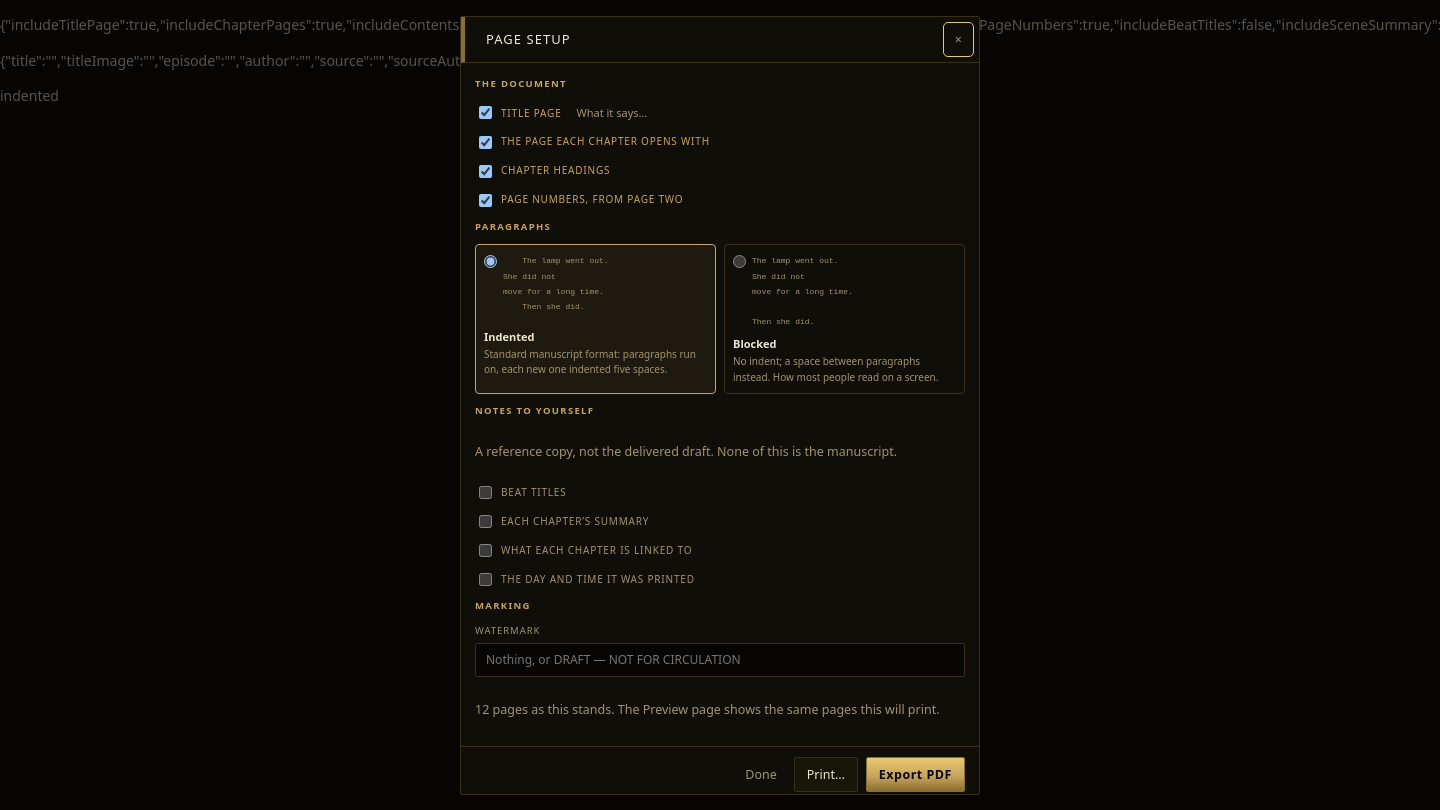
Test case: page setup › offers the two paragraph styles to a book, and to nothing else
Expected: the text with test id "paragraph-style" reads "indented", [0,86,59,105]
Expected: the radio button labelled "Indented" is checked, [484,255,497,268]
Click the radio button labelled "Blocked" at coordinates (740, 262), box [733,255,746,268]
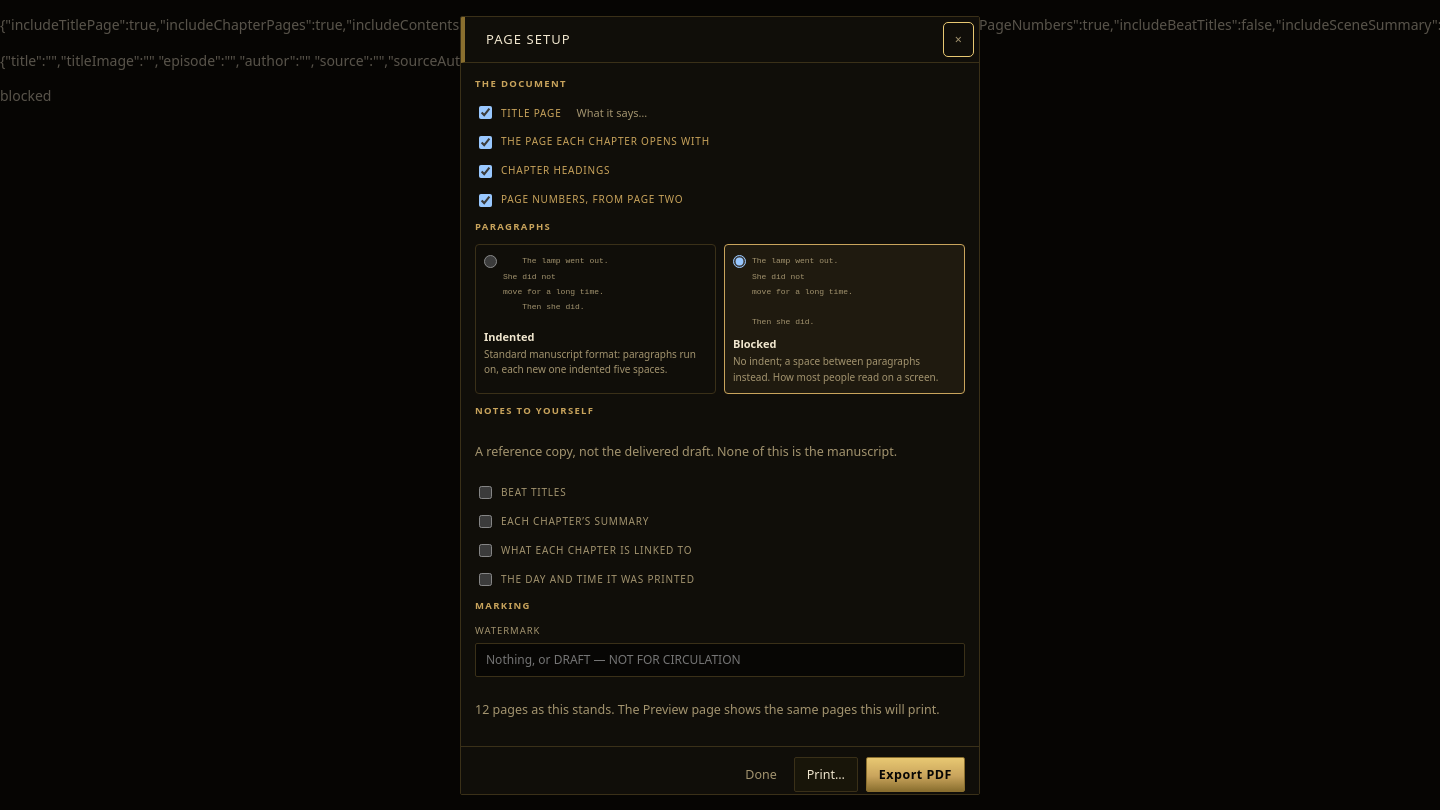
Now the radio button labelled "Blocked" is checked, box [733,255,746,268]
Now the text with test id "paragraph-style" reads "blocked", box [0,86,51,105]
